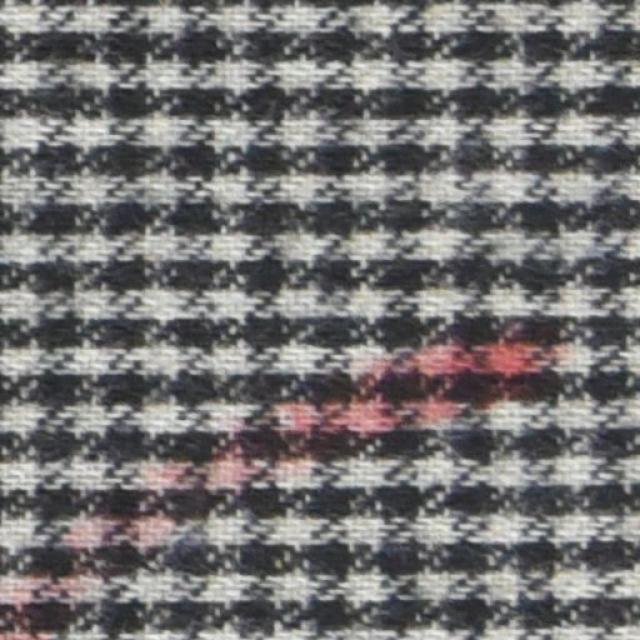Stain: (0, 333, 539, 640)
